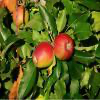Apple leaf: (17, 58, 39, 99), (35, 3, 60, 39), (0, 32, 22, 58), (68, 6, 92, 28), (72, 21, 93, 44), (73, 49, 94, 68), (67, 61, 86, 81), (14, 38, 29, 60), (53, 78, 68, 99), (89, 69, 99, 98), (56, 8, 67, 33), (18, 29, 33, 42)
